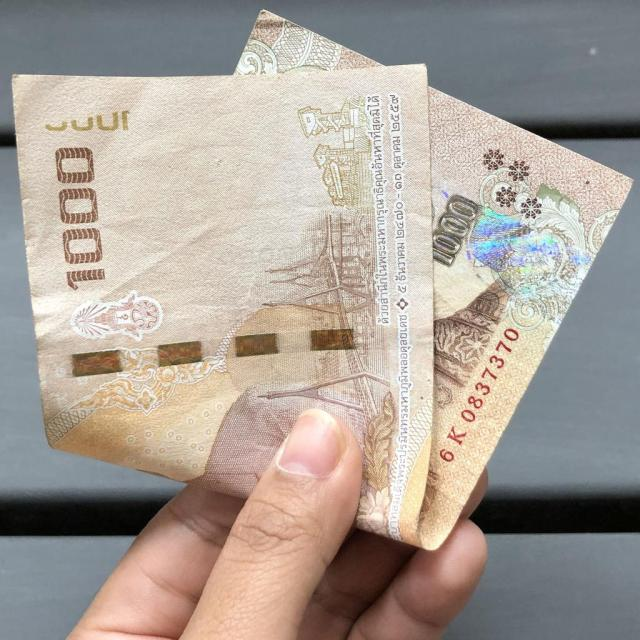THAI1000: (13, 12, 632, 549)
